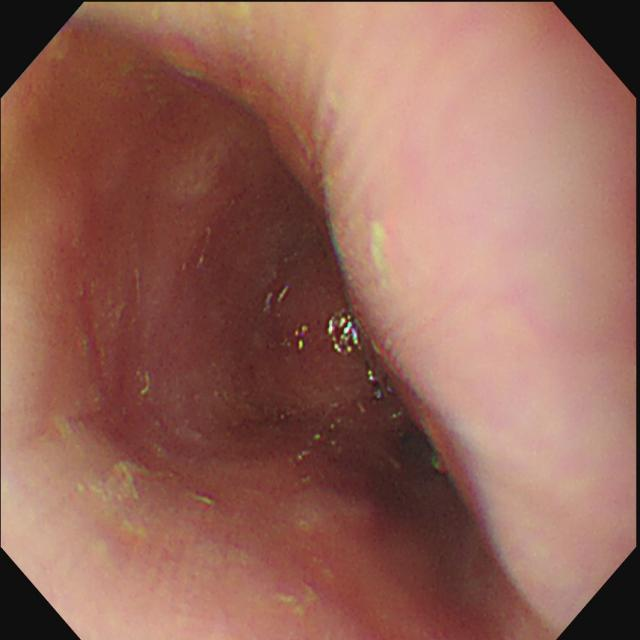U: (329, 318, 359, 356)
